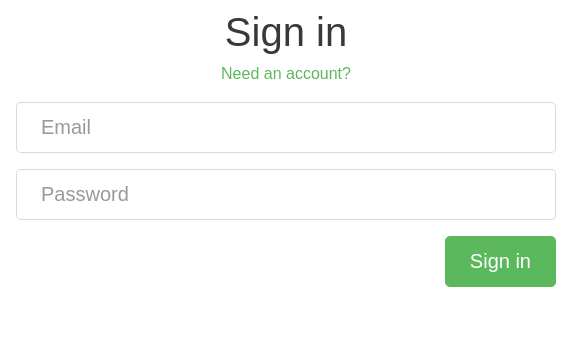
Test: Login page › shows default error if unable to parse backend errors
Click the button with test id "login-sign-in" at (500, 262), box [445,236,556,287]
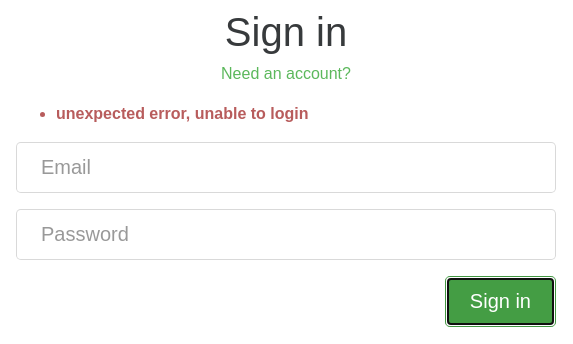
Check: the number of list items with test id "error-list-item" is 1, box [56,105,308,122]
Check: the list item with test id "error-list-item" reads "unexpected error, unable to login", box [56,105,308,122]
